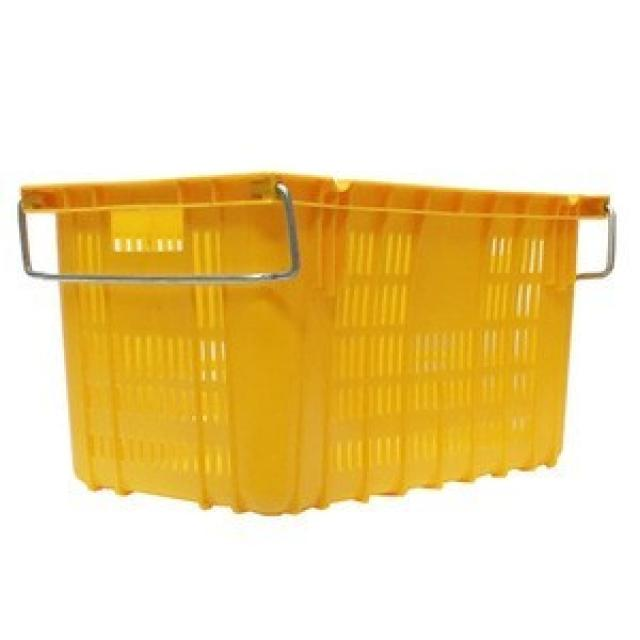basket: (0, 153, 613, 539)
